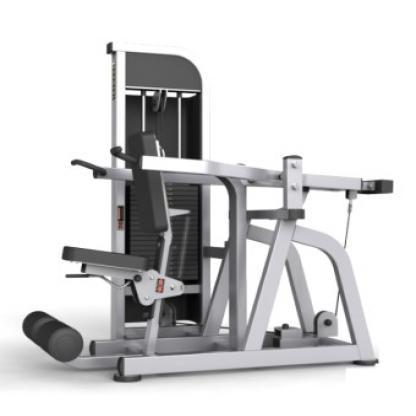seated dip machine: (23, 41, 391, 380)
